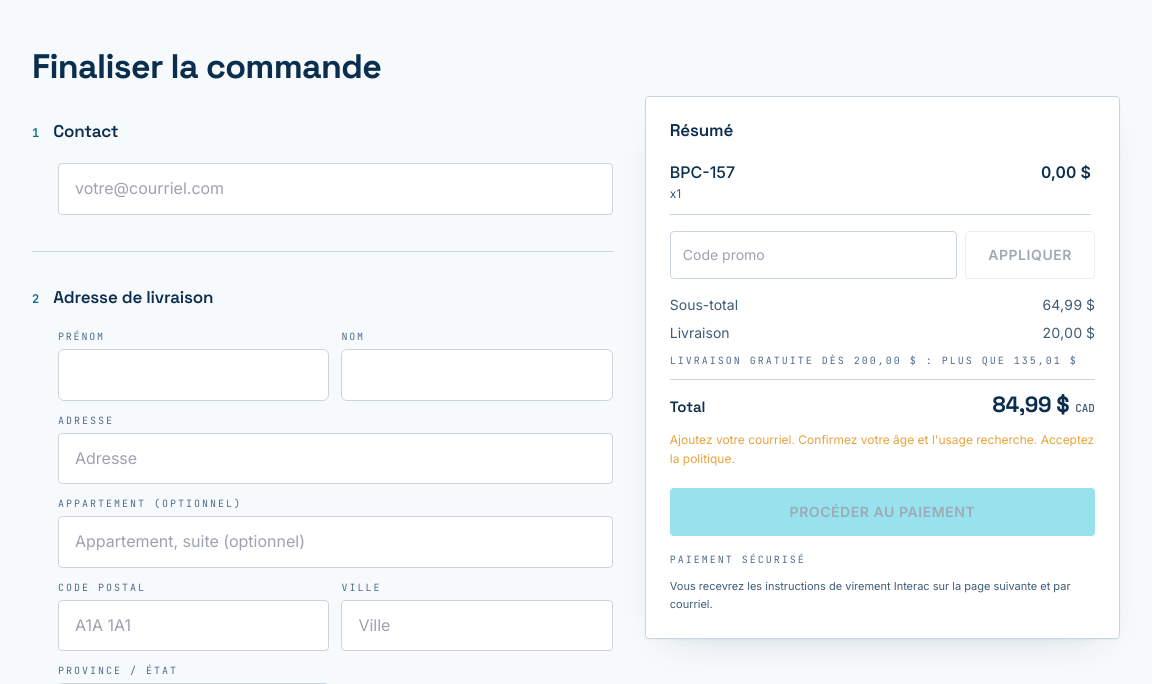
Test: le code postal remplit la province tout seul
In the field with test id "shipping-postal": (194, 626) [58,600,329,651], type "H2X1Y4"
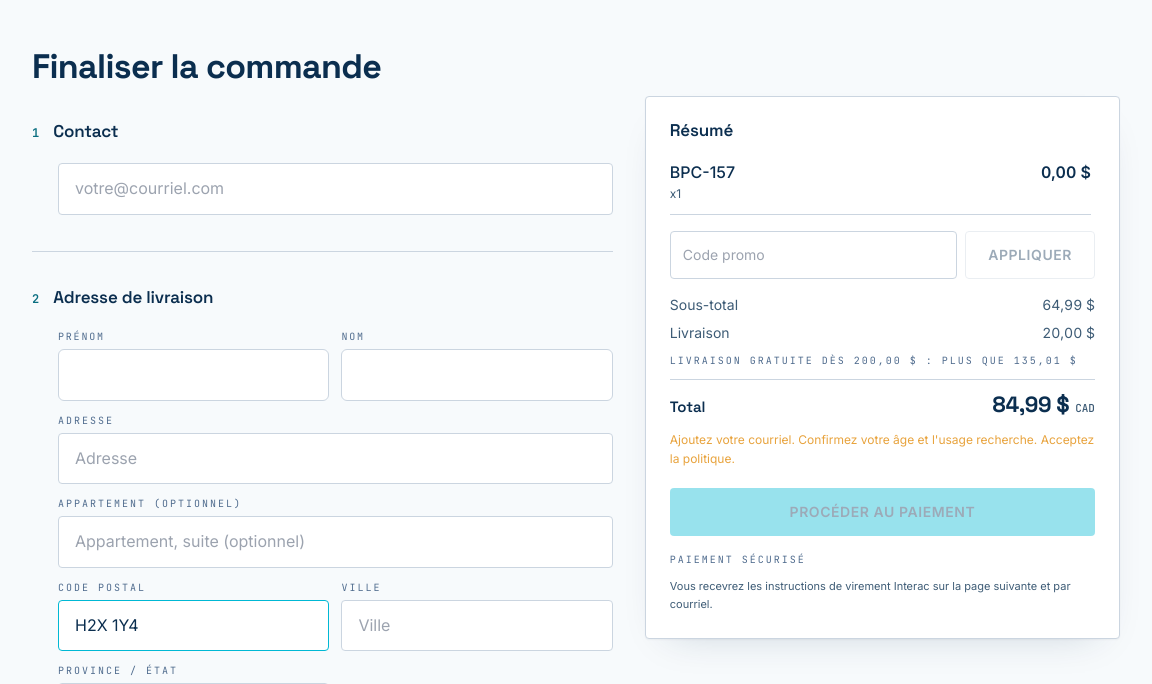
expect the field with test id "shipping-postal" holds "H2X 1Y4": met, box [58,600,329,651]
